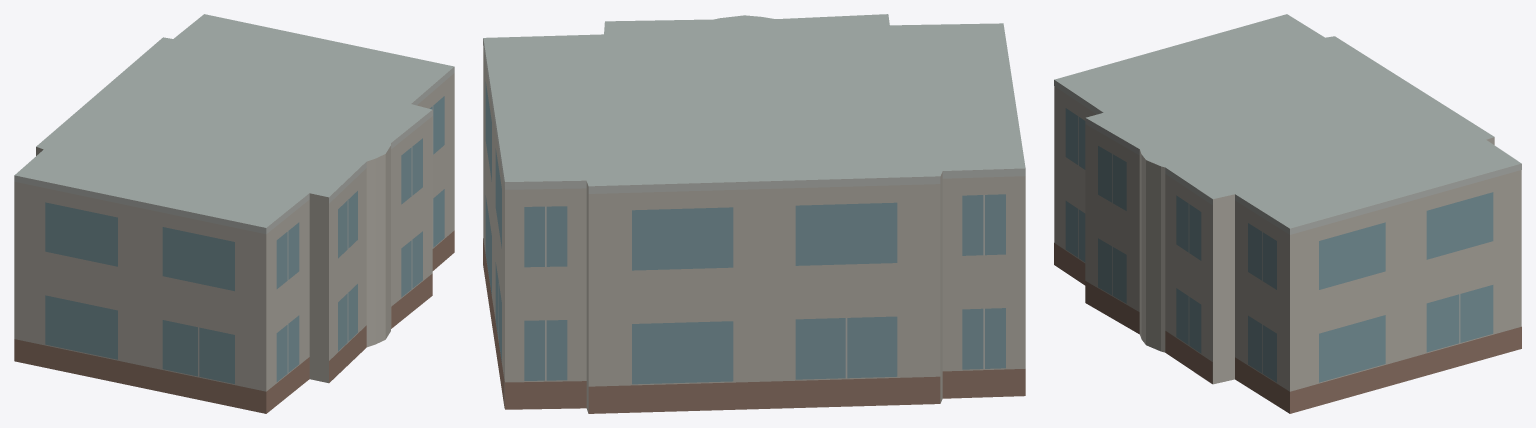
File: survey-upis-32971396.glb
The picture shows the model from 3 angles, left to right: view 1: azimuth 30°, elevation 25°; view 2: azimuth 150°, elevation 25°; view 3: azimuth 270°, elevation 25°; orthographic projection. The views are drawn at different scales.
Visible parts, largest first — view 1: survey-upis-32971396.tmp; view 2: survey-upis-32971396.tmp; view 3: survey-upis-32971396.tmp.
Boxes of the visible parts, <box> form: survey-upis-32971396.tmp: <box>14,14,454,413</box>; survey-upis-32971396.tmp: <box>483,14,1025,413</box>; survey-upis-32971396.tmp: <box>1054,14,1521,413</box>.
Size of the model in its own units: 17.91 by 7.2 by 16.49.
